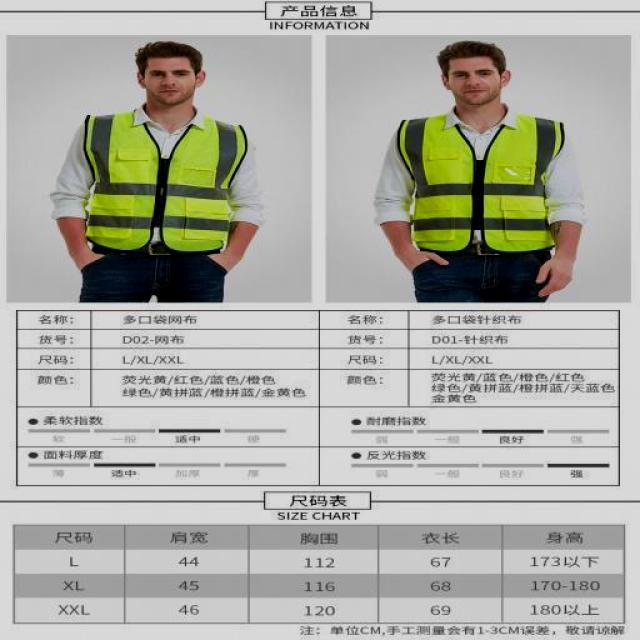face_nomask: (449, 63, 499, 104), (146, 66, 194, 102)
hand_noglove: (532, 253, 576, 302)
head_nohelmet: (438, 40, 512, 64), (136, 40, 204, 66)
person: (46, 42, 270, 302), (370, 39, 584, 302)
vest: (390, 106, 570, 259), (71, 111, 248, 254)
